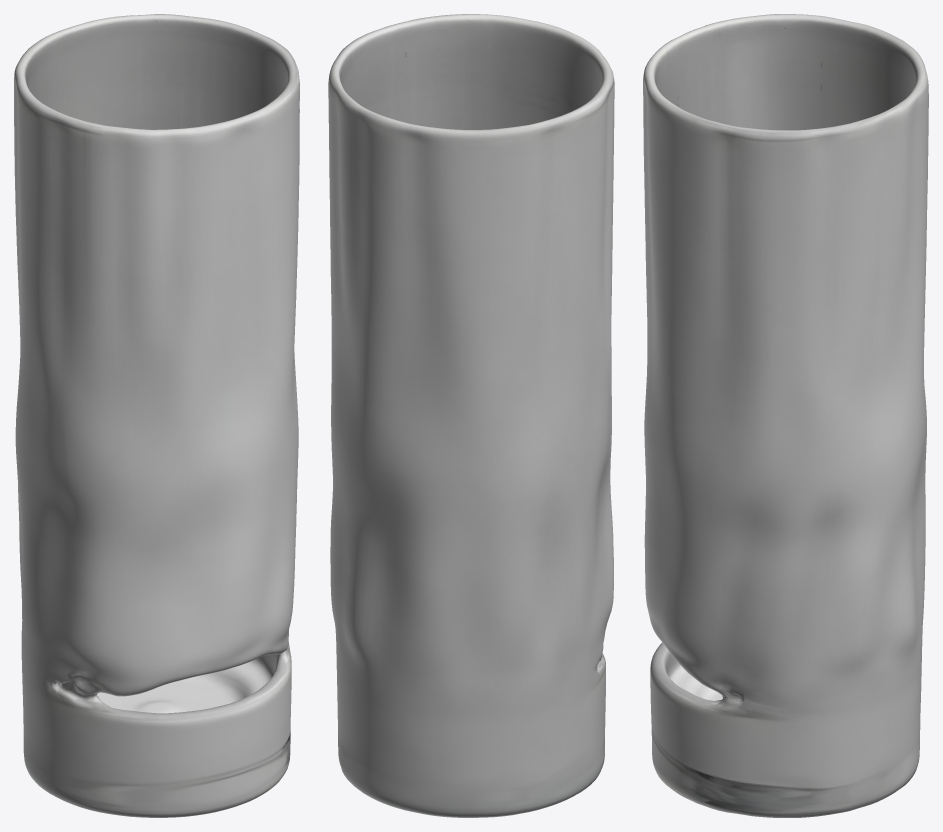
The model's file is model_collins_glass.glb.
The picture shows the model from 3 angles, left to right: view 1: azimuth 30°, elevation 25°; view 2: azimuth 150°, elevation 25°; view 3: azimuth 270°, elevation 25°; orthographic projection.
Parts seen in each view (by area): view 1: tripo_node_2efae0b9-4cf8-4048-ad96-305006f16cab; view 2: tripo_node_2efae0b9-4cf8-4048-ad96-305006f16cab; view 3: tripo_node_2efae0b9-4cf8-4048-ad96-305006f16cab.
Boxes of the visible parts, bbox=[...] form: tripo_node_2efae0b9-4cf8-4048-ad96-305006f16cab: bbox=[14, 14, 299, 817]; tripo_node_2efae0b9-4cf8-4048-ad96-305006f16cab: bbox=[328, 14, 614, 817]; tripo_node_2efae0b9-4cf8-4048-ad96-305006f16cab: bbox=[643, 14, 928, 817].
Size of the model in its own units: 0.3768 by 0.9999 by 0.3738.
Materials: 1 (1 with a texture image).
